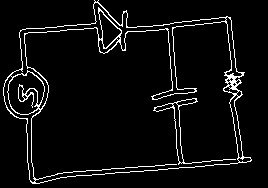capacitor: (149, 81, 202, 117)
diode: (85, 1, 139, 56)
resistor: (221, 58, 248, 113)
signal: (2, 65, 50, 122)
